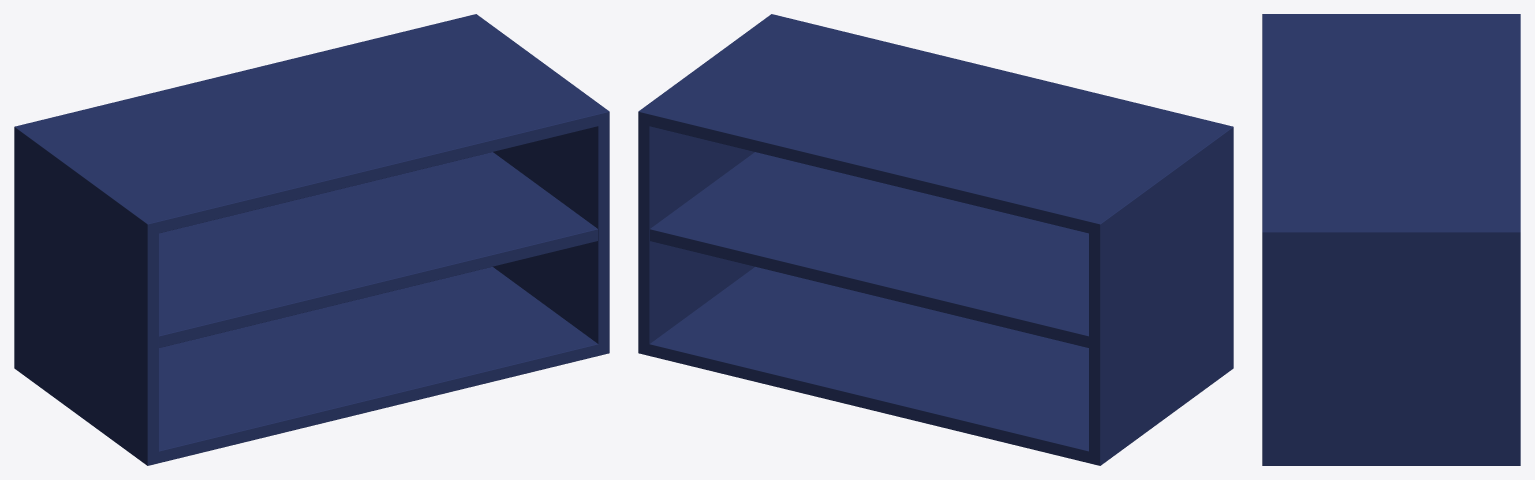
The model's file is MOD_2X1_S_O_AF.glb.
The picture shows the model from 3 angles, left to right: view 1: azimuth 30°, elevation 25°; view 2: azimuth 150°, elevation 25°; view 3: azimuth 270°, elevation 25°; orthographic projection. The views are drawn at different scales.
Size of the model in its own units: 720 by 360 by 360.
